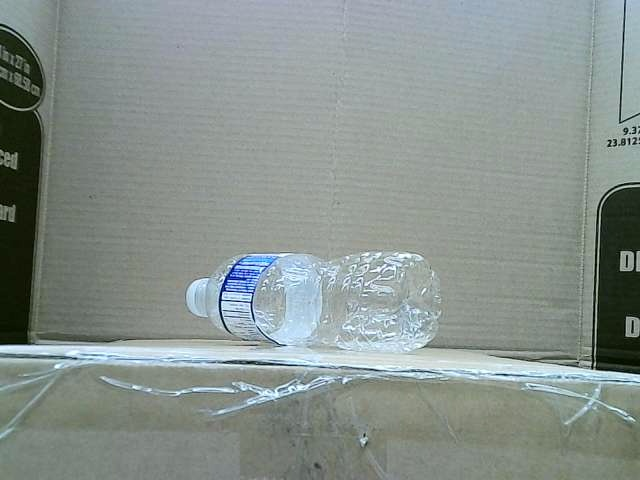WaterBottle: (185, 251, 443, 348)
